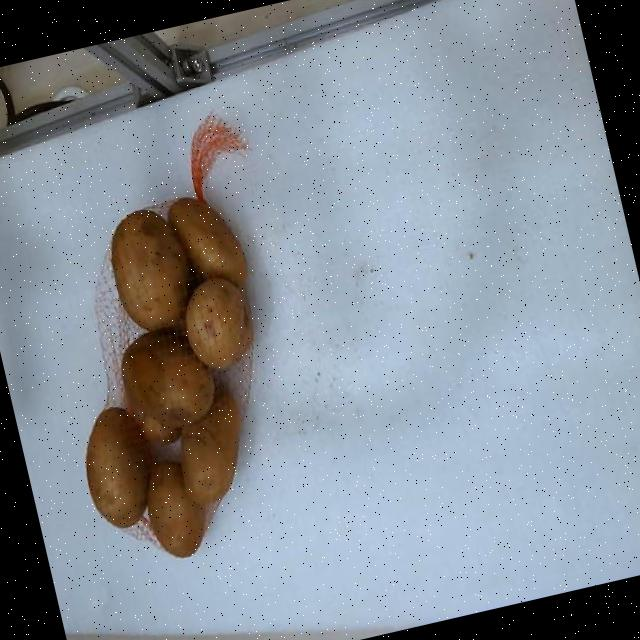potato: (110, 208, 189, 329), (120, 331, 213, 427), (85, 406, 150, 527), (167, 197, 246, 291), (181, 390, 240, 502), (184, 276, 251, 368), (146, 462, 203, 556), (138, 414, 180, 444)
